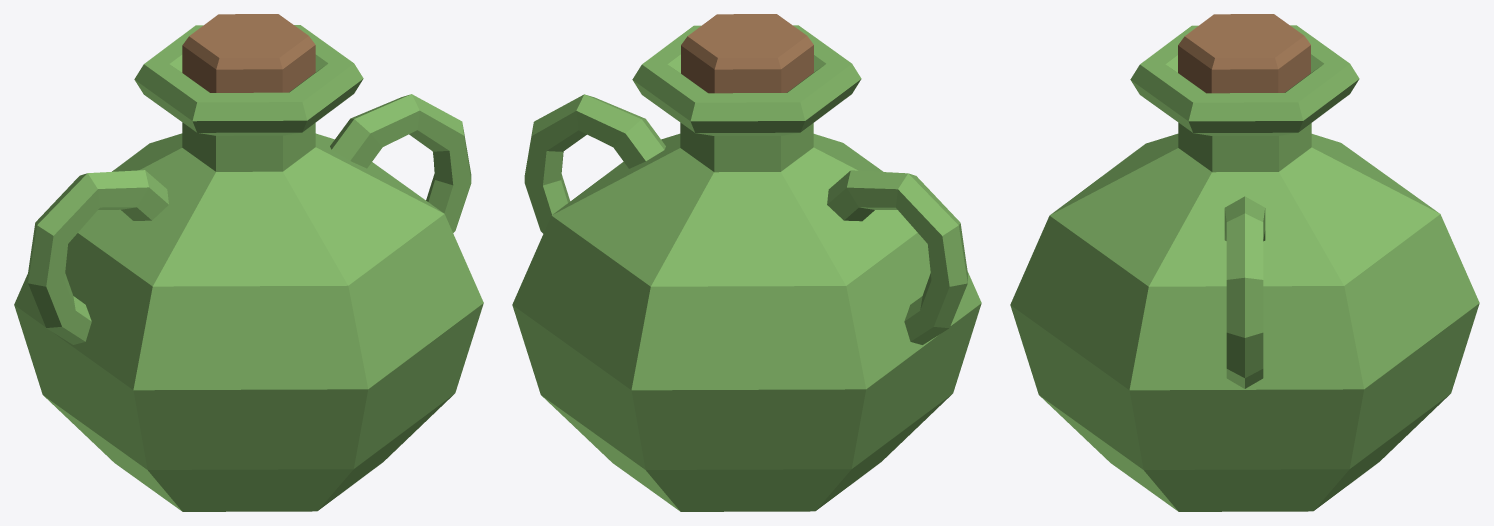
The model's file is Green_Potion_9(Doubke-Handle).fbx.
The picture shows the model from 3 angles, left to right: view 1: azimuth 30°, elevation 25°; view 2: azimuth 150°, elevation 25°; view 3: azimuth 270°, elevation 25°; orthographic projection.
Visible parts, largest first — view 1: Green_Potion_9(Doubke-Handle); view 2: Green_Potion_9(Doubke-Handle); view 3: Green_Potion_9(Doubke-Handle).
Part boxes in pixels (left/top/right/bottom): Green_Potion_9(Doubke-Handle): left=14, top=14, right=483, bottom=511; Green_Potion_9(Doubke-Handle): left=512, top=14, right=981, bottom=511; Green_Potion_9(Doubke-Handle): left=1010, top=14, right=1479, bottom=511.
Bounding box in the file's own units: 22.59 × 20.77 × 20.73.
